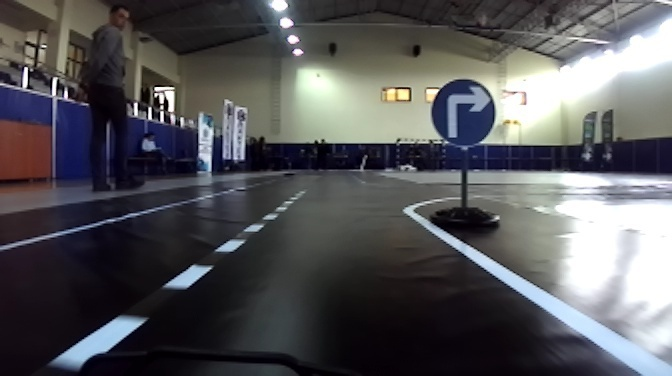saga_donus: (430, 78, 497, 146)
